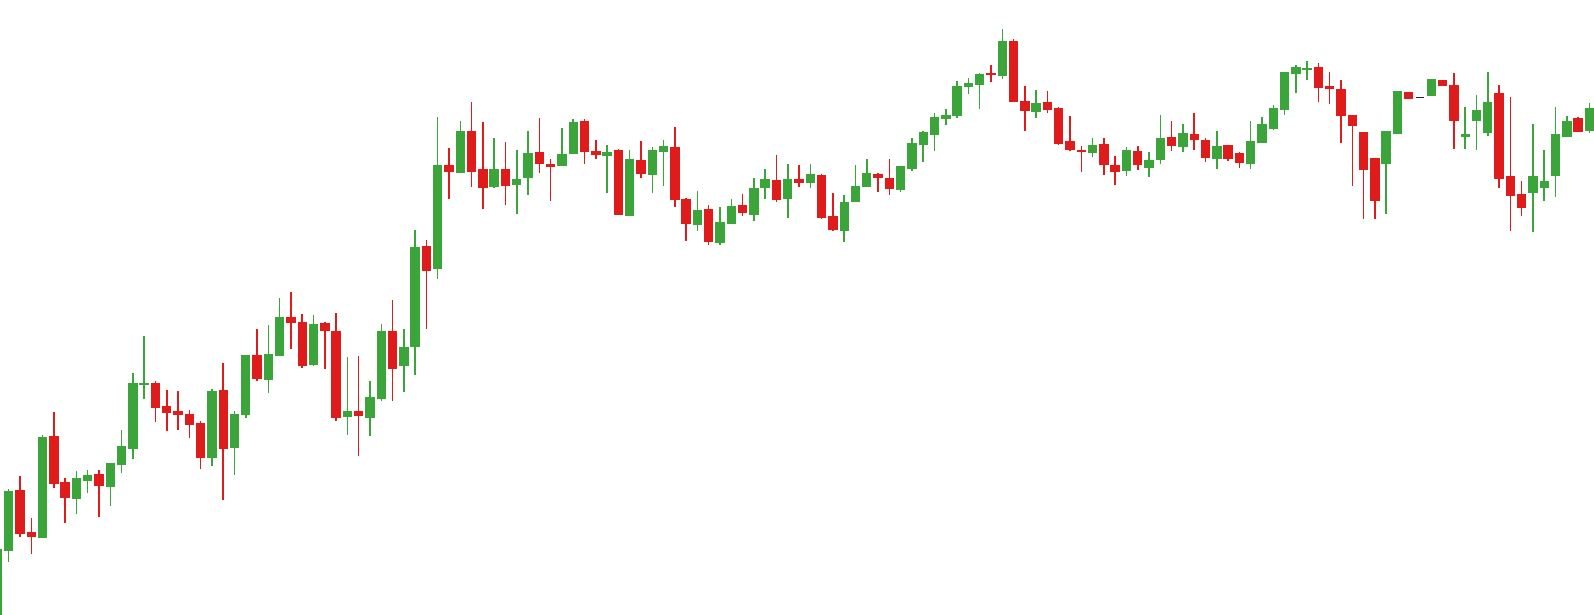buy: (1356, 126, 1541, 233)
